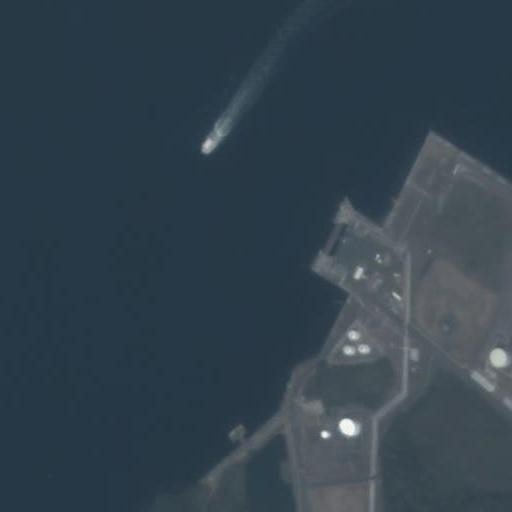person: (200, 136, 218, 155)
